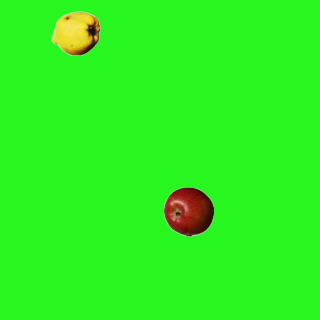Apple Braeburn: (163, 186, 213, 236)
Quince: (50, 8, 100, 58)
